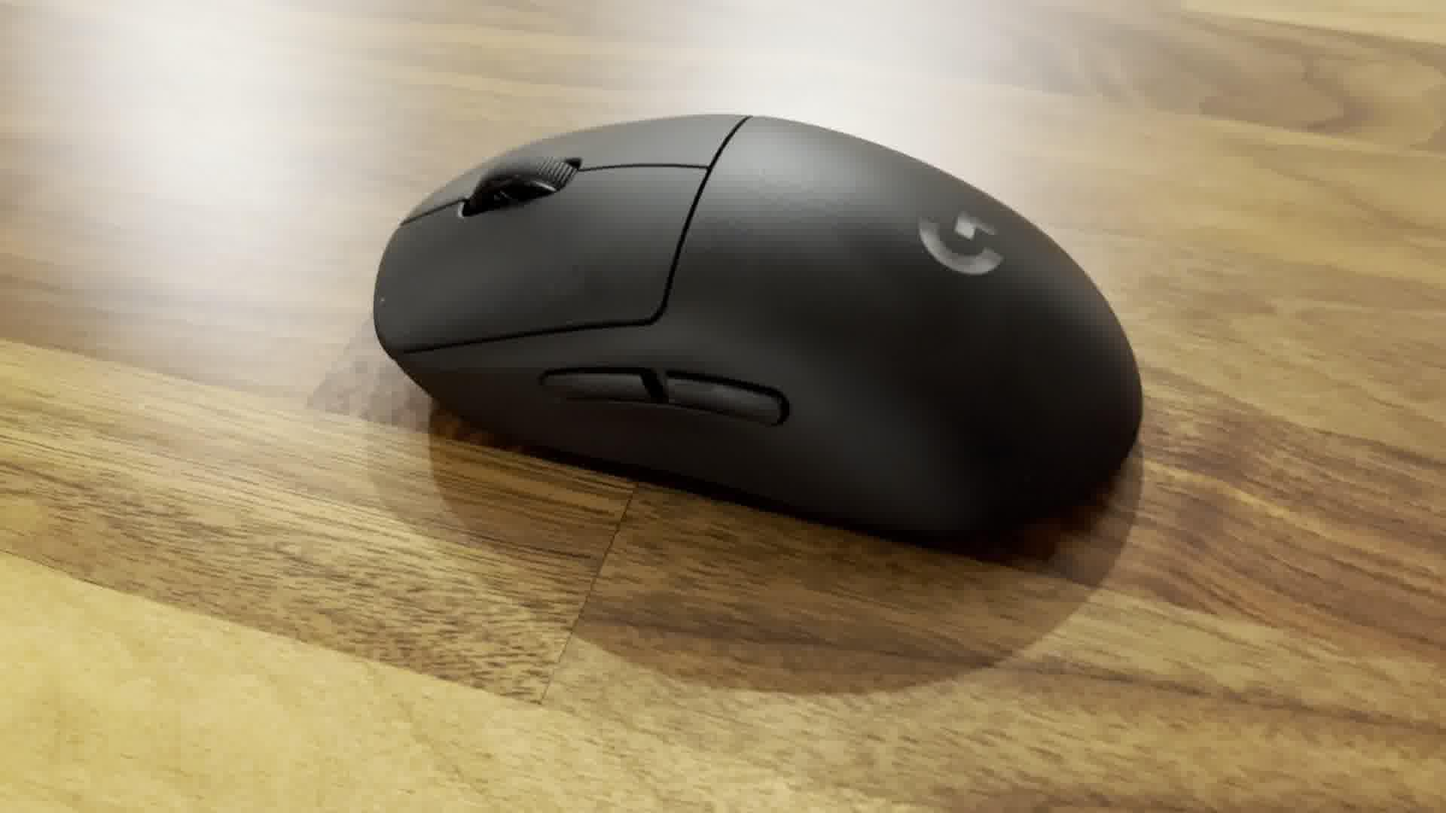mouse: (370, 108, 1147, 565)
